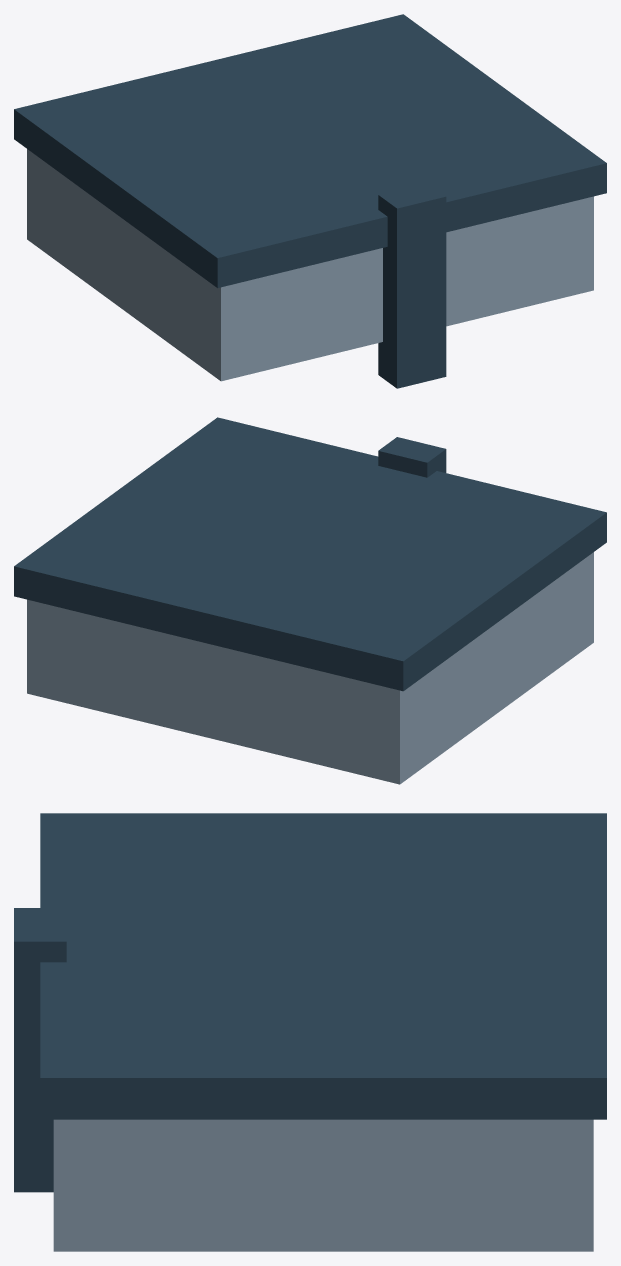
Rendered from head-1.obj.
3 renders of one model, top to bottom at view 1: azimuth 30°, elevation 25°; view 2: azimuth 150°, elevation 25°; view 3: azimuth 270°, elevation 25°, orthographic. The views are drawn at different scales.
Size of the model in its own units: 0.95 by 0.42 by 0.9.
